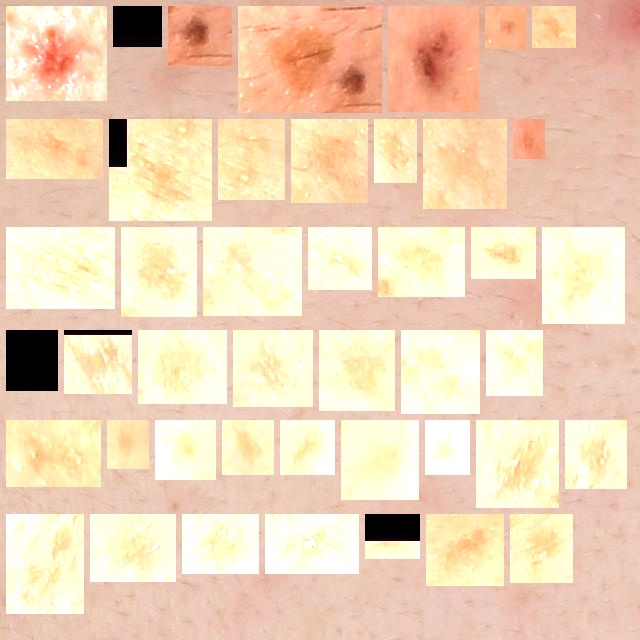melasma: (246, 14, 374, 105), (117, 127, 204, 213), (14, 235, 107, 301), (211, 235, 294, 308), (550, 235, 617, 316), (14, 522, 76, 606), (431, 127, 499, 201), (484, 428, 551, 500), (129, 235, 189, 309), (409, 338, 472, 406), (146, 338, 219, 396), (299, 127, 360, 195), (14, 428, 93, 479), (349, 428, 411, 492), (241, 338, 305, 399), (327, 338, 387, 403), (386, 235, 457, 289), (98, 522, 168, 574), (14, 127, 95, 171), (434, 522, 496, 578), (273, 522, 351, 566), (226, 127, 277, 192), (190, 522, 251, 566), (72, 338, 124, 386), (518, 522, 565, 575), (573, 428, 619, 481), (316, 235, 364, 282), (494, 338, 535, 388), (163, 428, 208, 472), (479, 235, 528, 271), (14, 338, 50, 383), (288, 428, 327, 467), (230, 428, 266, 467), (382, 127, 409, 175), (433, 428, 462, 467), (373, 522, 412, 551), (115, 428, 141, 461), (540, 14, 568, 40), (521, 127, 537, 151)
nevus: (396, 14, 471, 104), (14, 14, 99, 93), (176, 14, 224, 58), (121, 14, 154, 39), (493, 14, 518, 41)
